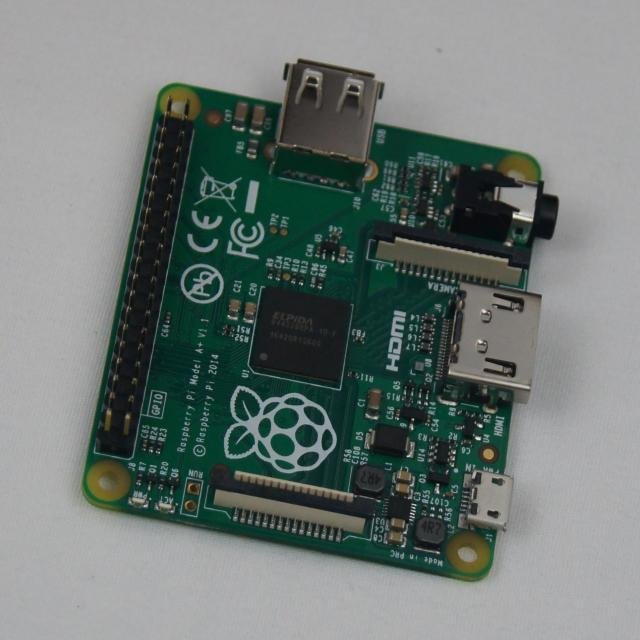Raspberry-Pi-1-A-: (84, 61, 559, 580)
